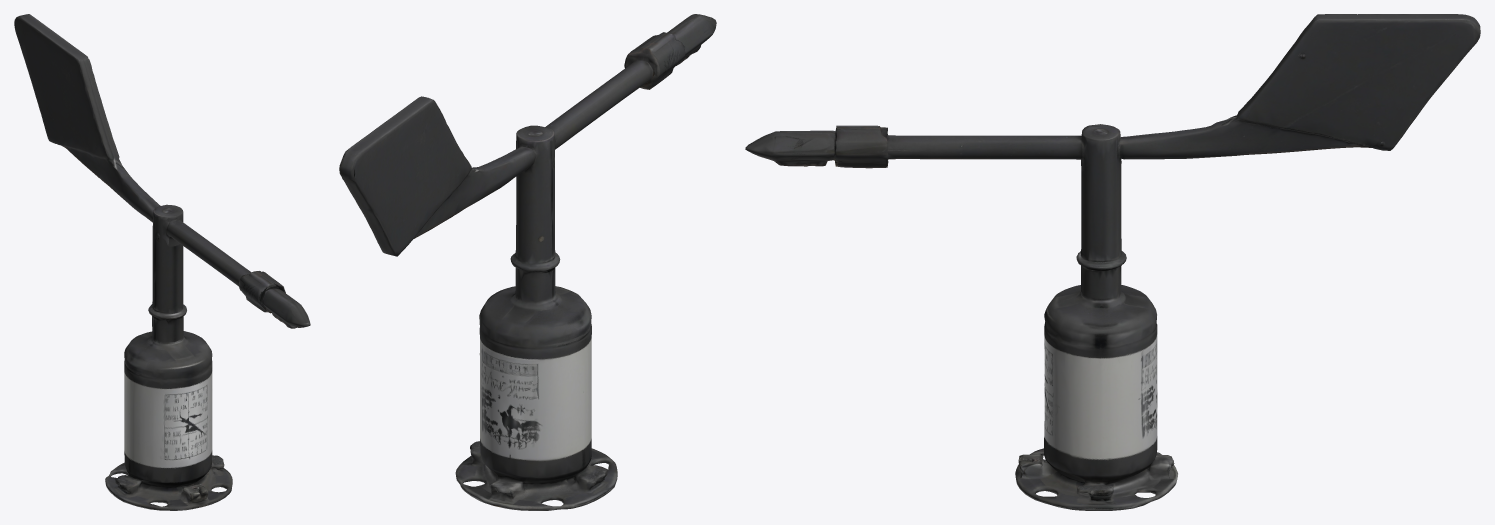
The model's file is direccionv.glb.
3 views of the same model, side by side, from view 1: azimuth 30°, elevation 25°; view 2: azimuth 150°, elevation 25°; view 3: azimuth 270°, elevation 25° (orthographic). The views are drawn at different scales.
Bounding box in the file's own units: 0.4326 × 1.39 × 2.
Materials: 1 (1 with a texture image).
